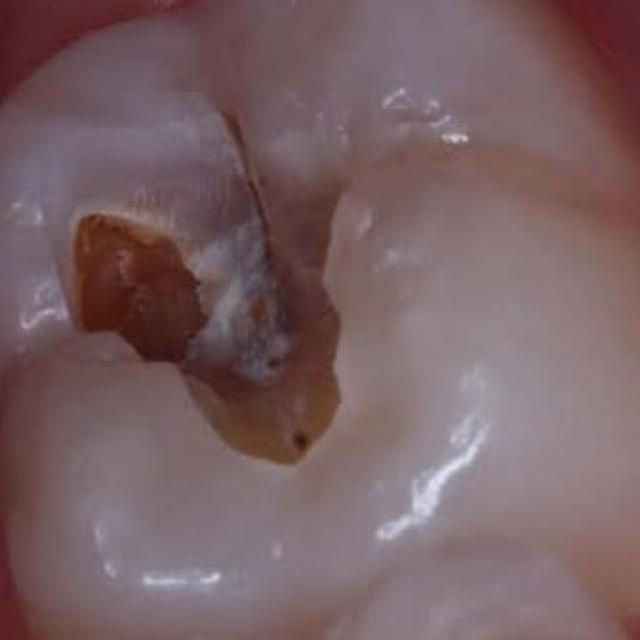Carrier: (216, 99, 349, 470), (59, 200, 220, 376), (186, 379, 215, 422)
